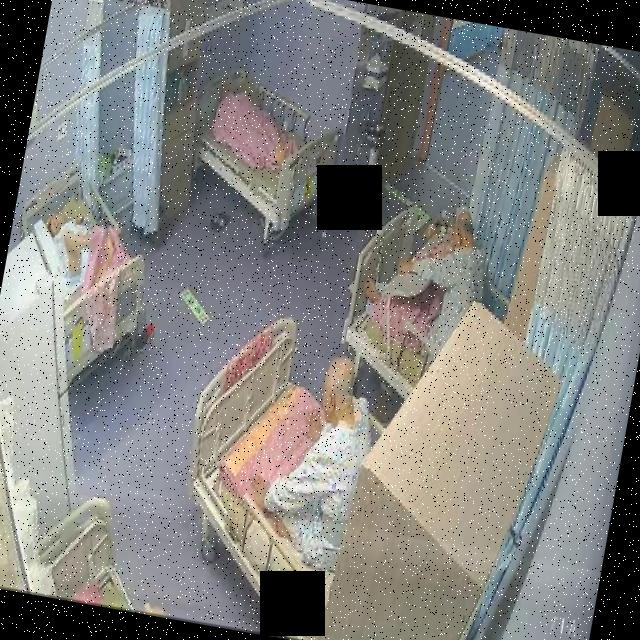bed: (159, 308, 405, 640), (0, 157, 168, 393), (335, 207, 497, 410), (179, 59, 346, 239)
lie: (33, 205, 102, 292)
patient: (237, 342, 385, 578), (352, 190, 499, 368), (34, 204, 103, 293)
sit: (237, 342, 385, 578), (353, 191, 498, 368)
